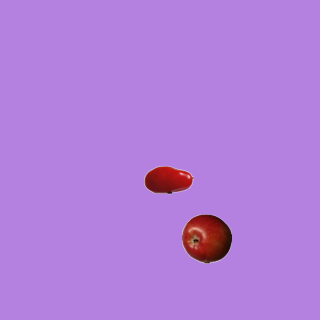Apple Braeburn: (181, 213, 231, 263)
Tomato 2: (143, 154, 193, 204)
